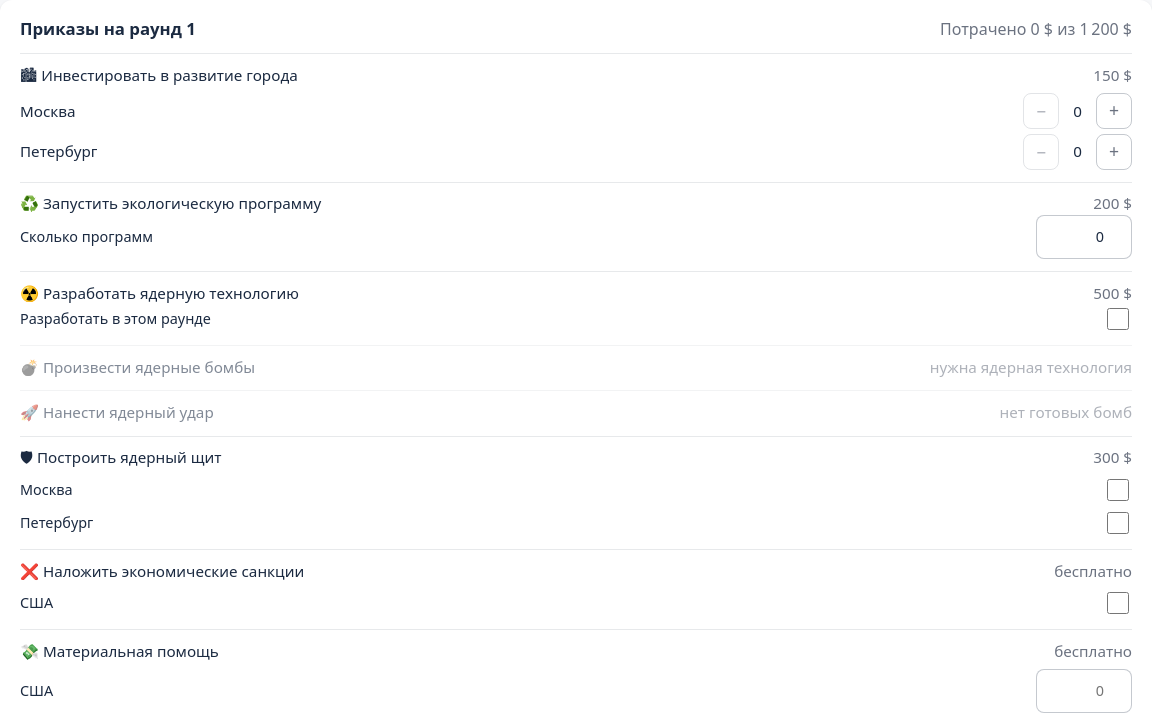
Test: OrdersForm › drops the confirmation once the draft changes again
Click the button named "Добавить Москва" at (1114, 111), box [1096, 93, 1132, 129]
(page scrolled)
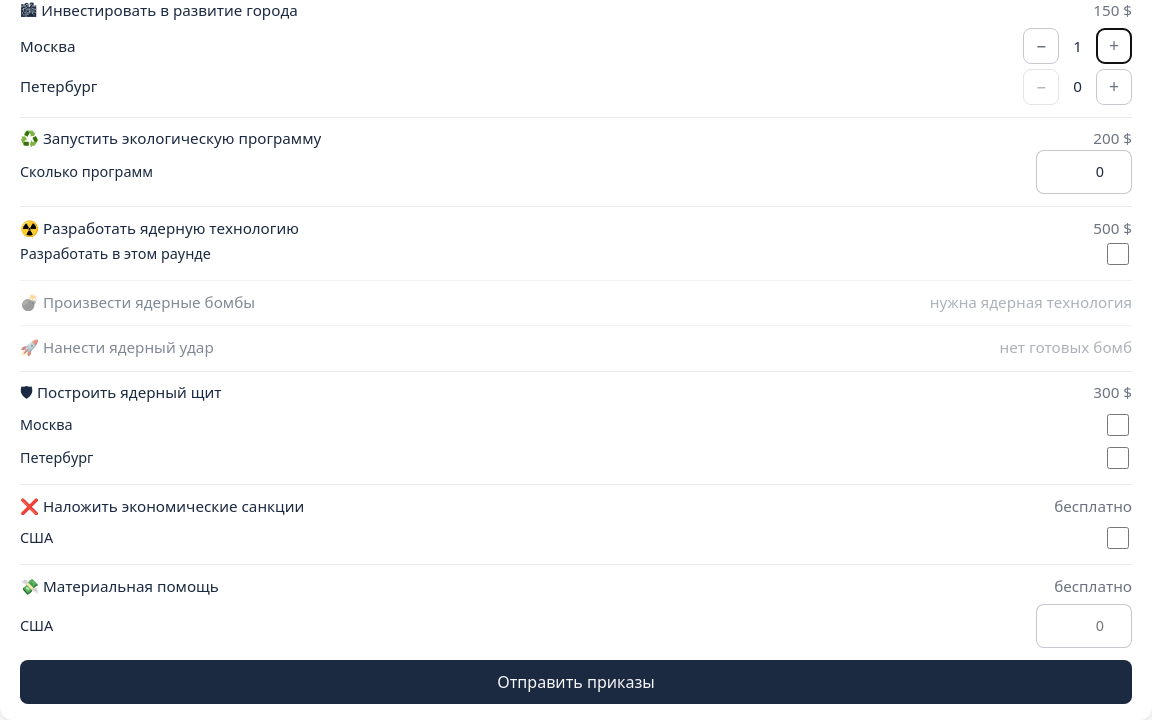
Click the button "Отправить приказы" at (576, 682), box [20, 660, 1132, 704]
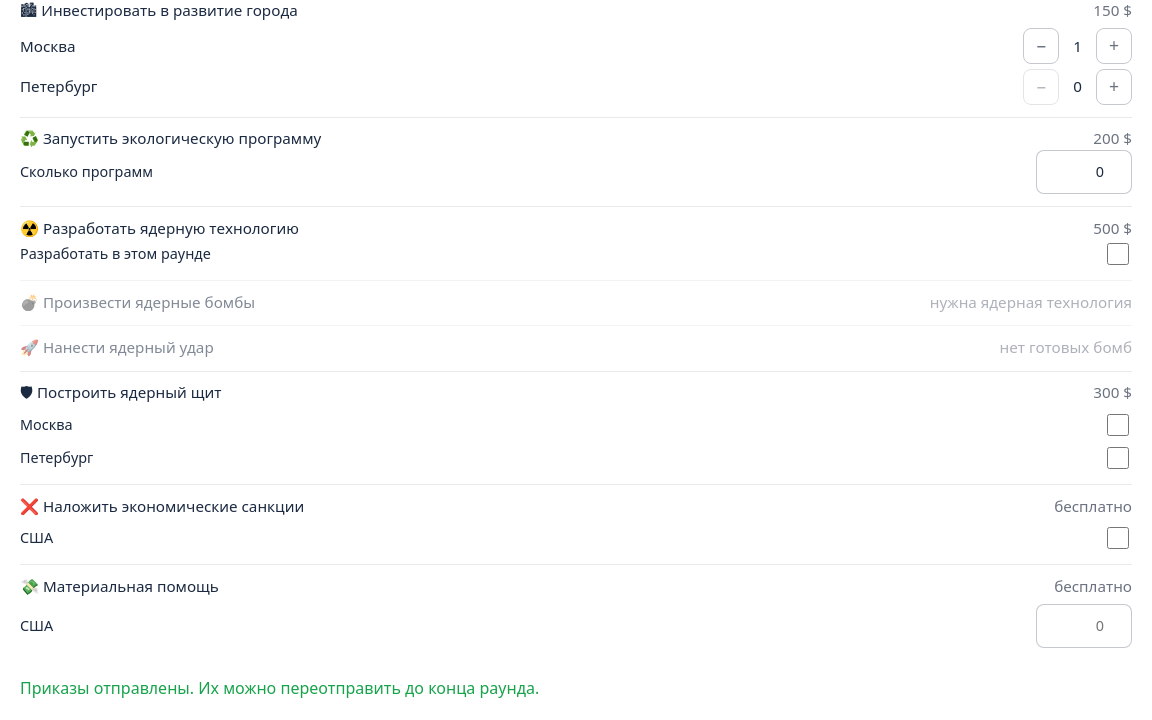
expect the text "Приказы отправлены. Их можно переотправить до конца раунда." is shown: met, box [20, 677, 539, 699]
Click the button named "Добавить Петербург" at (1114, 87), box [1096, 69, 1132, 105]
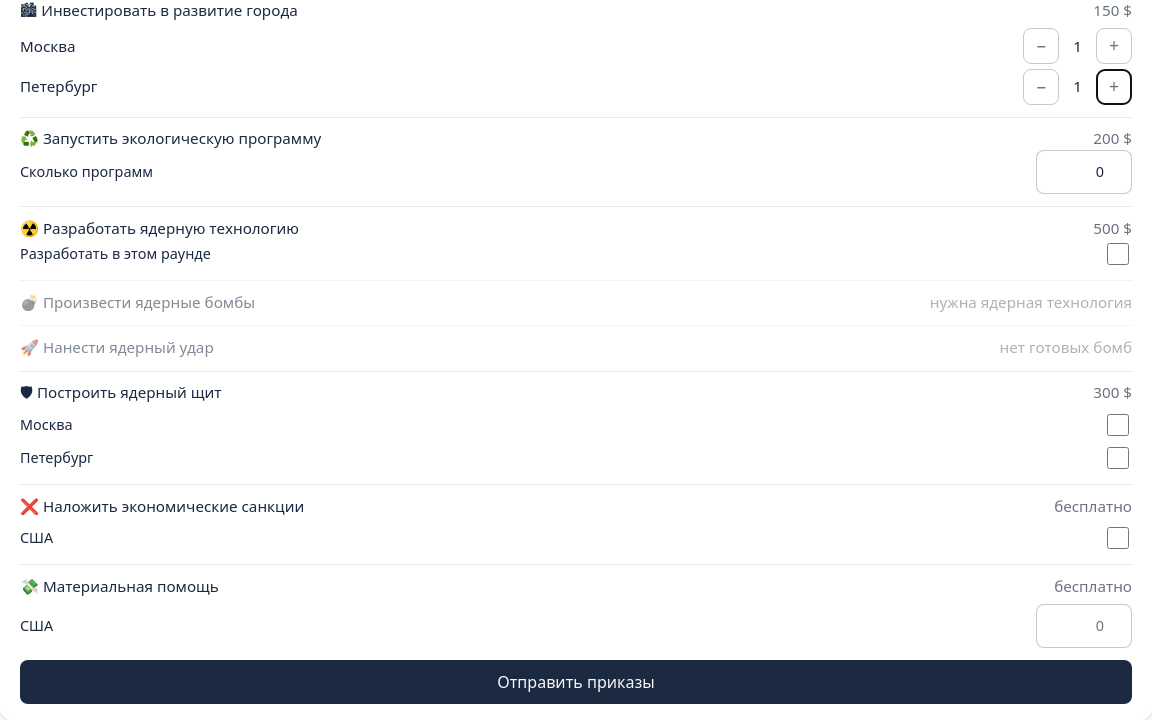
expect the text "Приказы отправлены" is gone: met
